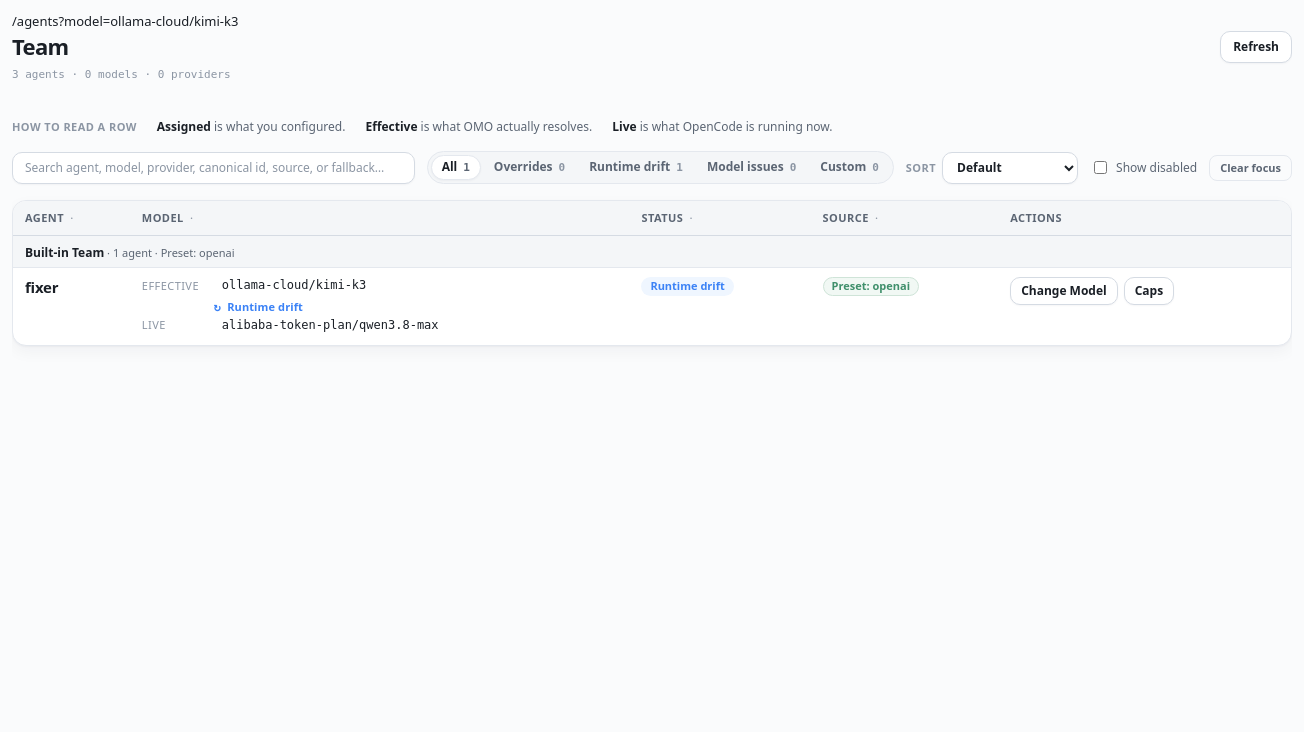
Test: agents URL state — updates › control change clears an active focus
Expected: the text "explorer" is not shown
Click the radio button with aria-label "All," at (456, 168), box top-left (431, 156), bottom-right (481, 180)
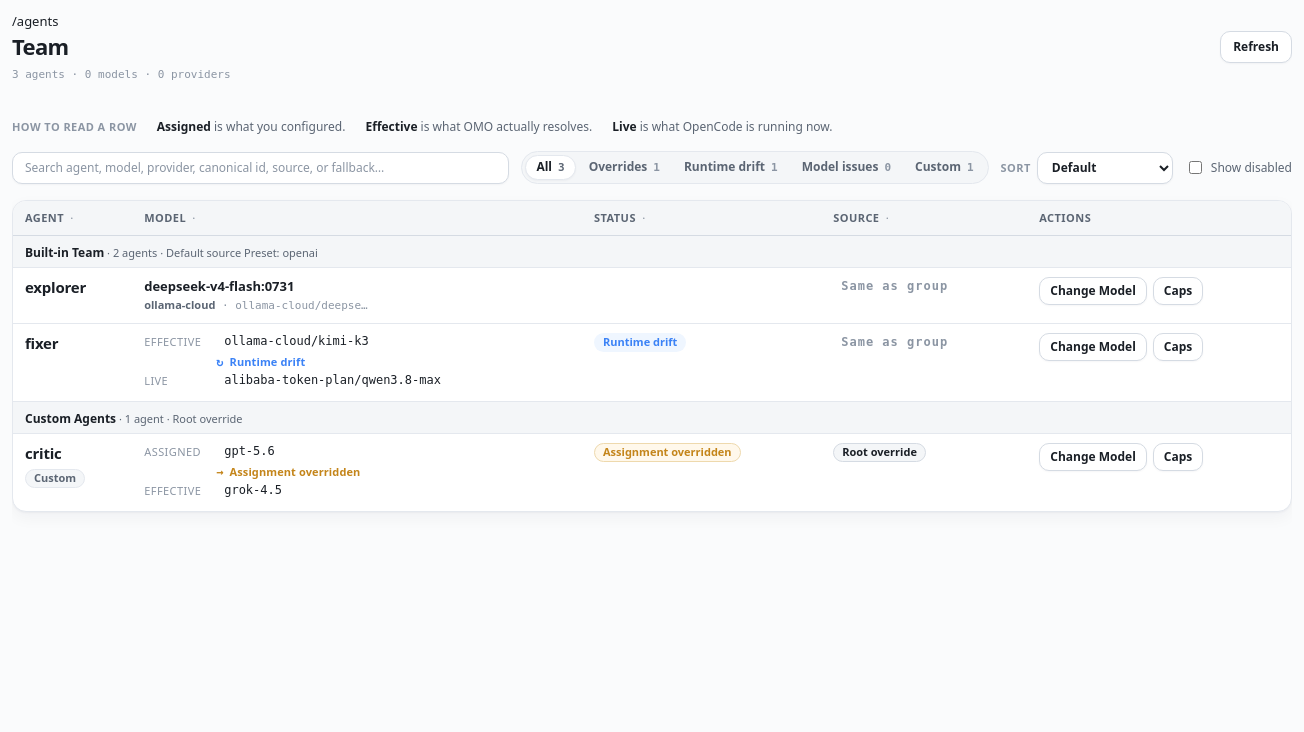
Expected: the text with test id "loc" no longer shows "model="
Expected: the button "explorer" is shown, top-left (25, 277), bottom-right (86, 299)
